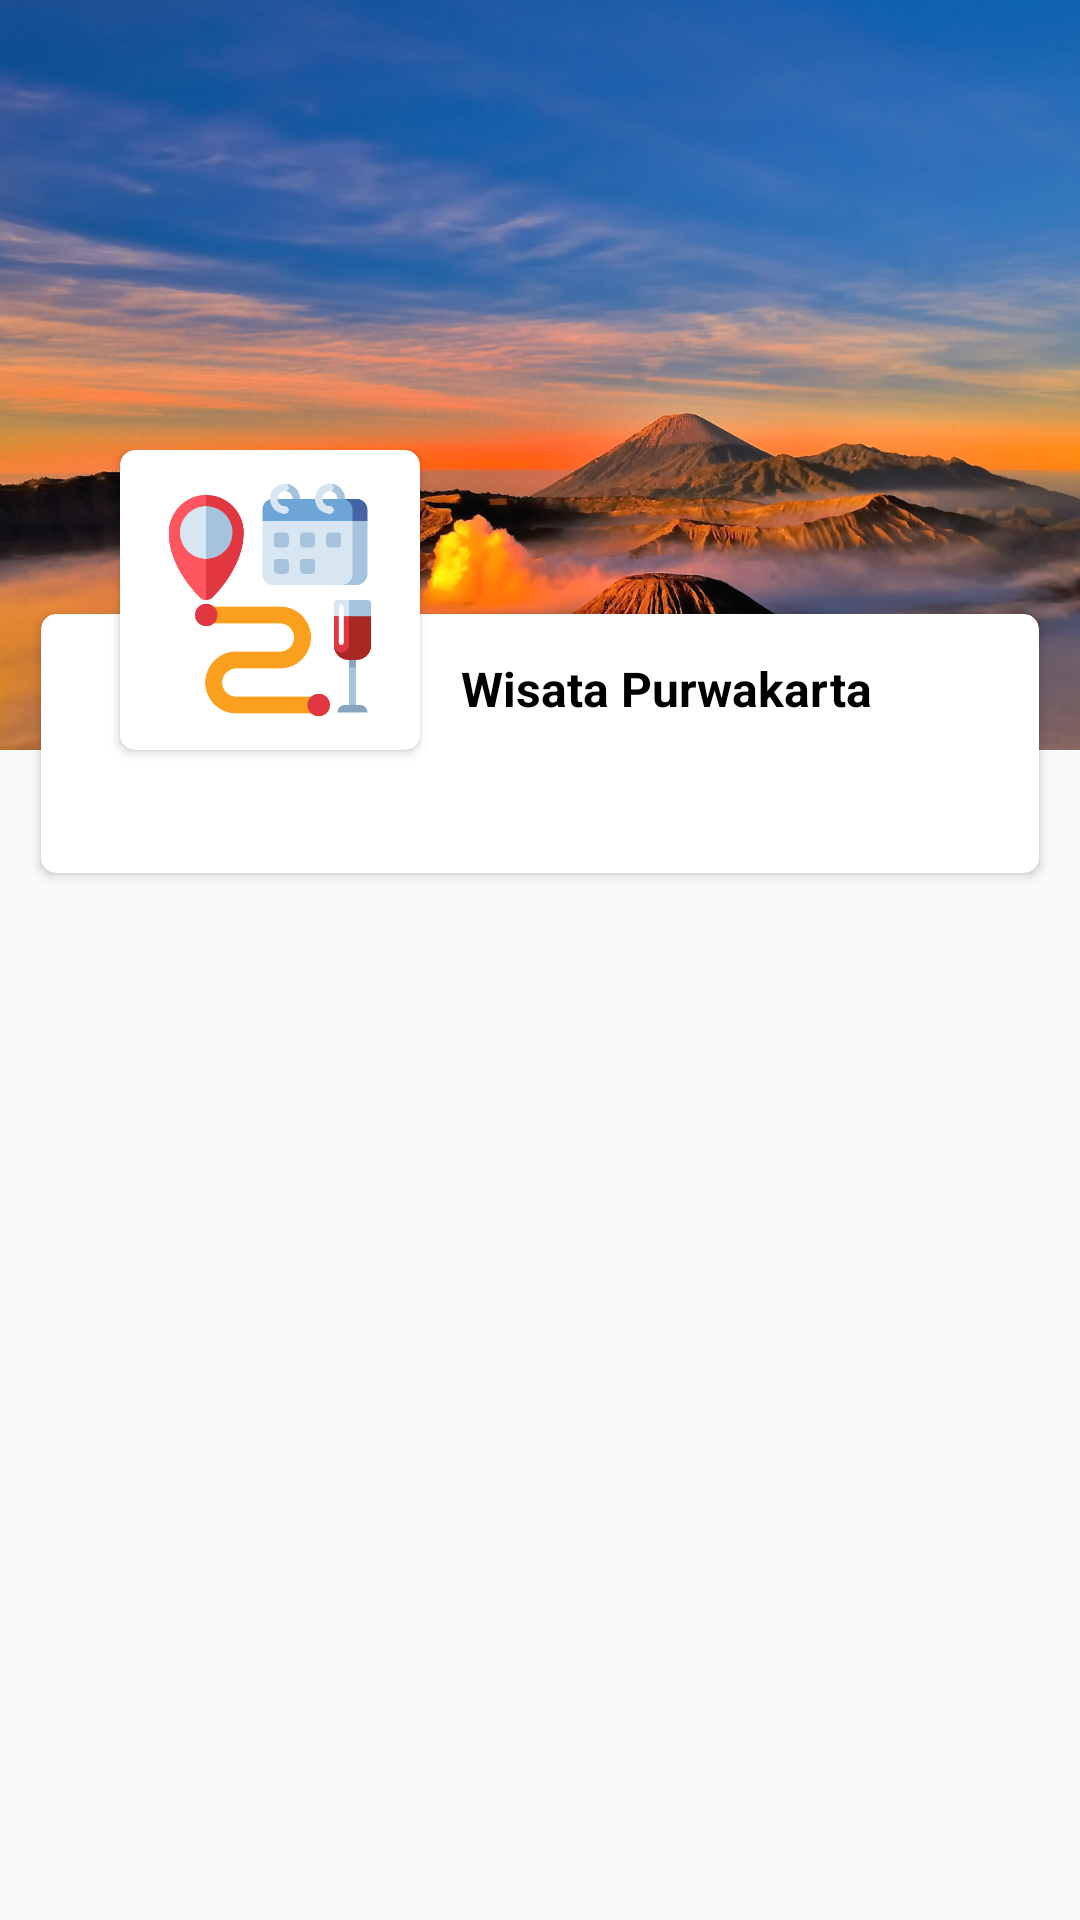

Named icons in this screenshot (1080×1920) and their centers, point (x, y):
tour: point (270, 600)
